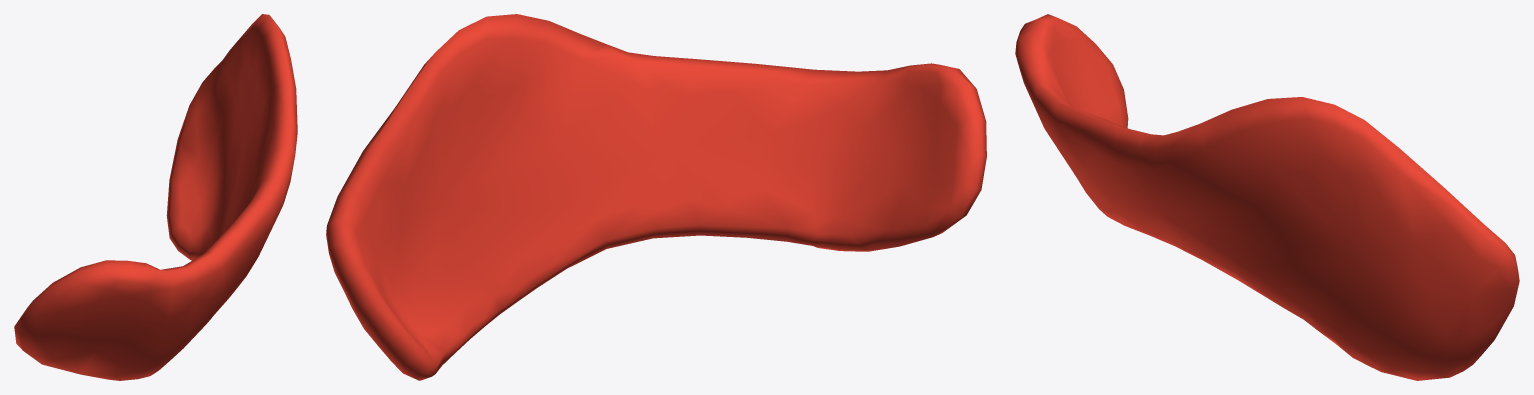
Rendered from Abductor_digiti_minimi-Insertion.r_Generated_Mesh_From_X3D.578.glb.
The picture shows the model from 3 angles, left to right: view 1: azimuth 30°, elevation 25°; view 2: azimuth 150°, elevation 25°; view 3: azimuth 270°, elevation 25°; orthographic projection. The views are drawn at different scales.
Parts seen in each view (by area): view 1: Abductor_digiti_minimi-Insertion.r_Generated_Mesh_From_X3D.5; view 2: Abductor_digiti_minimi-Insertion.r_Generated_Mesh_From_X3D.5; view 3: Abductor_digiti_minimi-Insertion.r_Generated_Mesh_From_X3D.5.
Part boxes in pixels (x1,y1,x2,y2): Abductor_digiti_minimi-Insertion.r_Generated_Mesh_From_X3D.5: [14, 14, 297, 380]; Abductor_digiti_minimi-Insertion.r_Generated_Mesh_From_X3D.5: [326, 14, 986, 380]; Abductor_digiti_minimi-Insertion.r_Generated_Mesh_From_X3D.5: [1015, 14, 1519, 380].
Size of the model in its own units: 0.00722 by 0.00474 by 0.00758.
